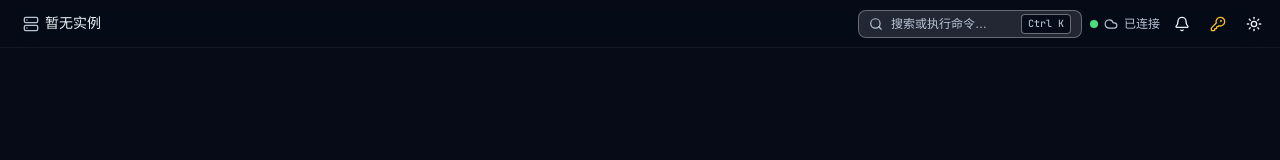
Test: AppTopBar 实例名三态 › 列表为空：显示「暂无实例」+ 下拉给出部署入口
The width and height of the screenshot is (1280, 160).
What coordinates should you click on to do the following:
click the button "暂无实例"
I would click on:
 (62, 24)
Its box is [12,10,112,38].
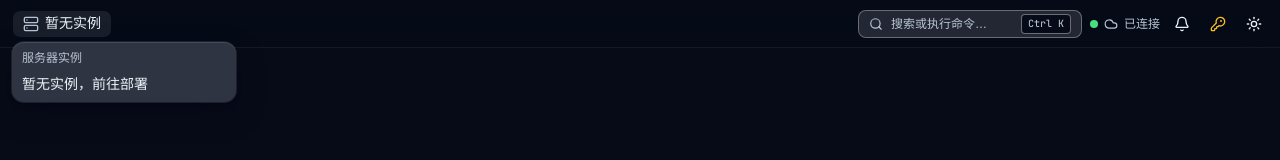
Expected: the menu item "暂无实例，前往部署" is shown, [22,76,148,92]
